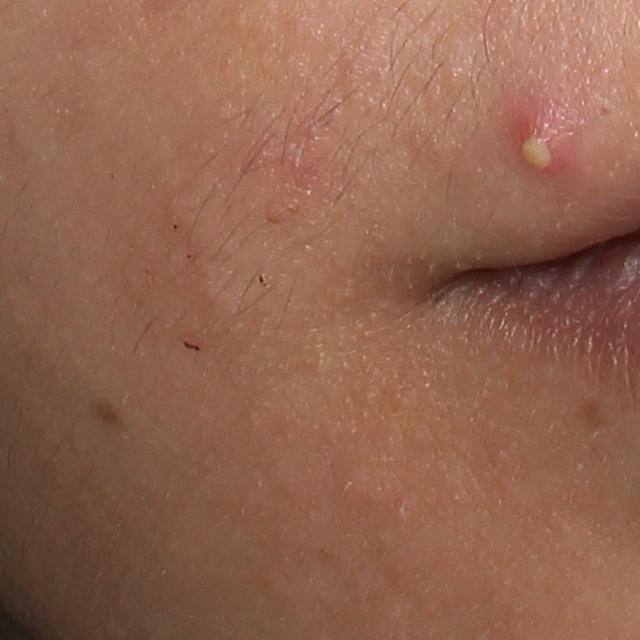comedo: (439, 58, 470, 92)
pustule: (516, 97, 578, 171)
